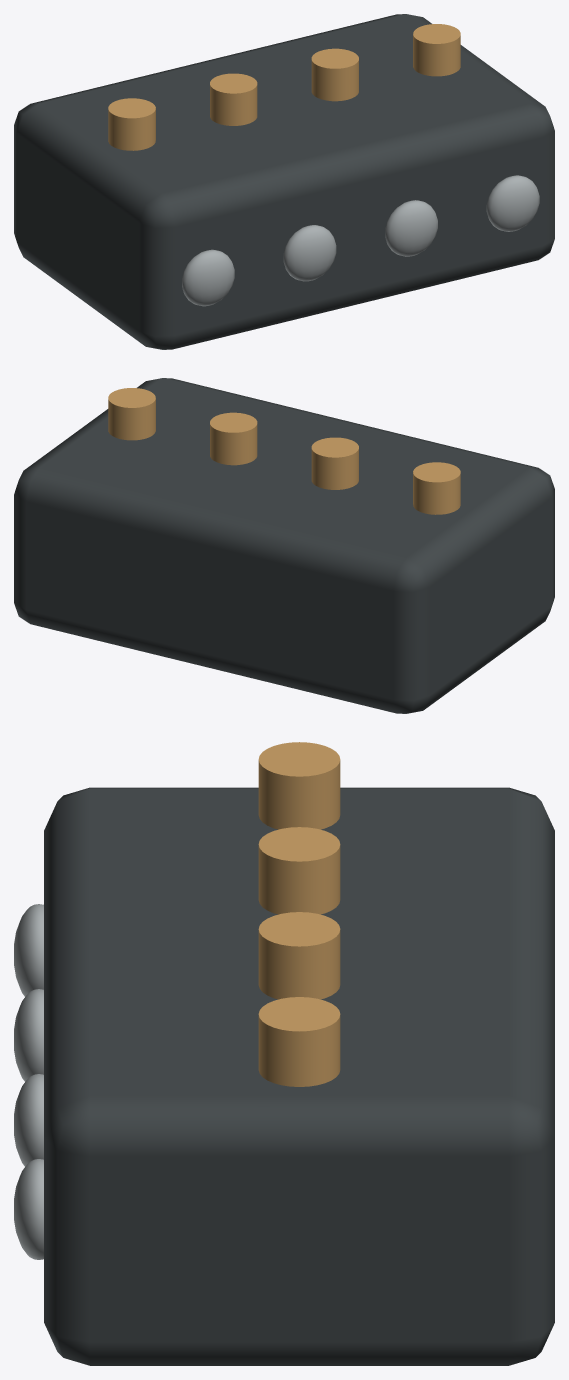
File: acc_audio_interface-18c2d0617cc7.glb
3 views of the same model, one above another, from view 1: azimuth 30°, elevation 25°; view 2: azimuth 150°, elevation 25°; view 3: azimuth 270°, elevation 25° (orthographic). The views are drawn at different scales.
Parts seen in each view (by area): view 1: surface_graphite, surface_steel, surface_brass; view 2: surface_graphite, surface_brass; view 3: surface_graphite, surface_brass, surface_steel.
Part boxes in pixels (bbox=[...]): surface_graphite: bbox=[14, 14, 554, 349]; surface_steel: bbox=[182, 175, 539, 306]; surface_brass: bbox=[108, 24, 460, 150]; surface_graphite: bbox=[14, 378, 554, 713]; surface_brass: bbox=[108, 388, 460, 514]; surface_graphite: bbox=[44, 787, 554, 1365]; surface_brass: bbox=[258, 742, 340, 1086]; surface_steel: bbox=[14, 904, 43, 1259].
Bounding box in the file's own units: 0.16 × 0.07 × 0.1059.
